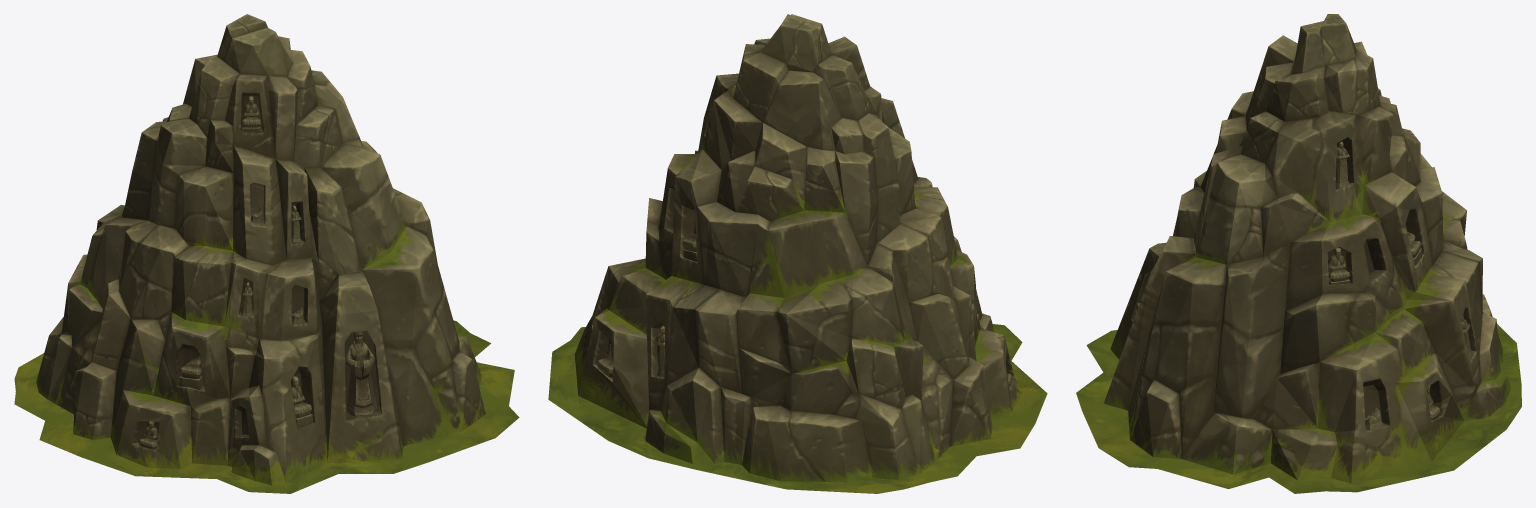
File: zone01_ridge_statues_01.fbx
The picture shows the model from 3 angles, left to right: view 1: azimuth 30°, elevation 25°; view 2: azimuth 150°, elevation 25°; view 3: azimuth 270°, elevation 25°; orthographic projection. The views are drawn at different scales.
Parts seen in each view (by area): view 1: obj1.047; view 2: obj1.047; view 3: obj1.047.
Part boxes in pixels (x1=…): obj1.047: x1=14, y1=14, x2=519, y2=493; obj1.047: x1=548, y1=14, x2=1047, y2=493; obj1.047: x1=1076, y1=14, x2=1521, y2=493.
Size of the model in its own units: 27.09 by 21.52 by 23.87.
